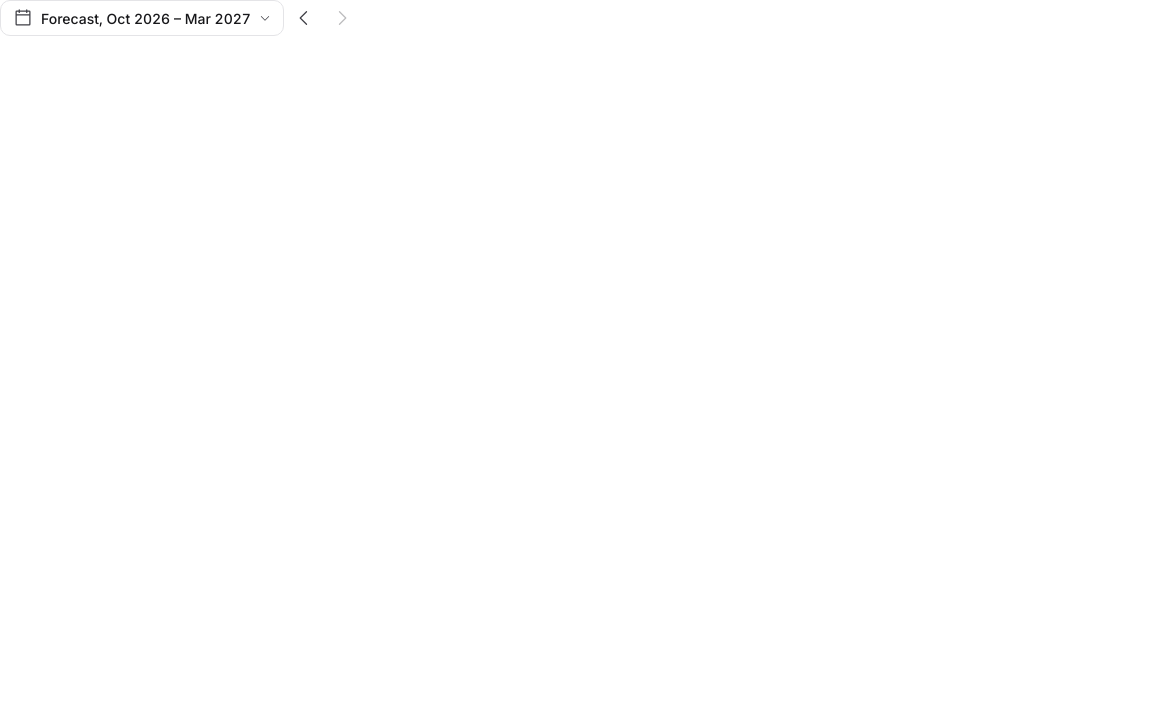
it: PeriodPicker › explains the forecast in the hint while the focus is on its button
Later steps or results of the test are not shown.
Click the button "Forecast, Oct 2026 – Mar 2027".
click(142, 18)  # box [0,0,284,36]
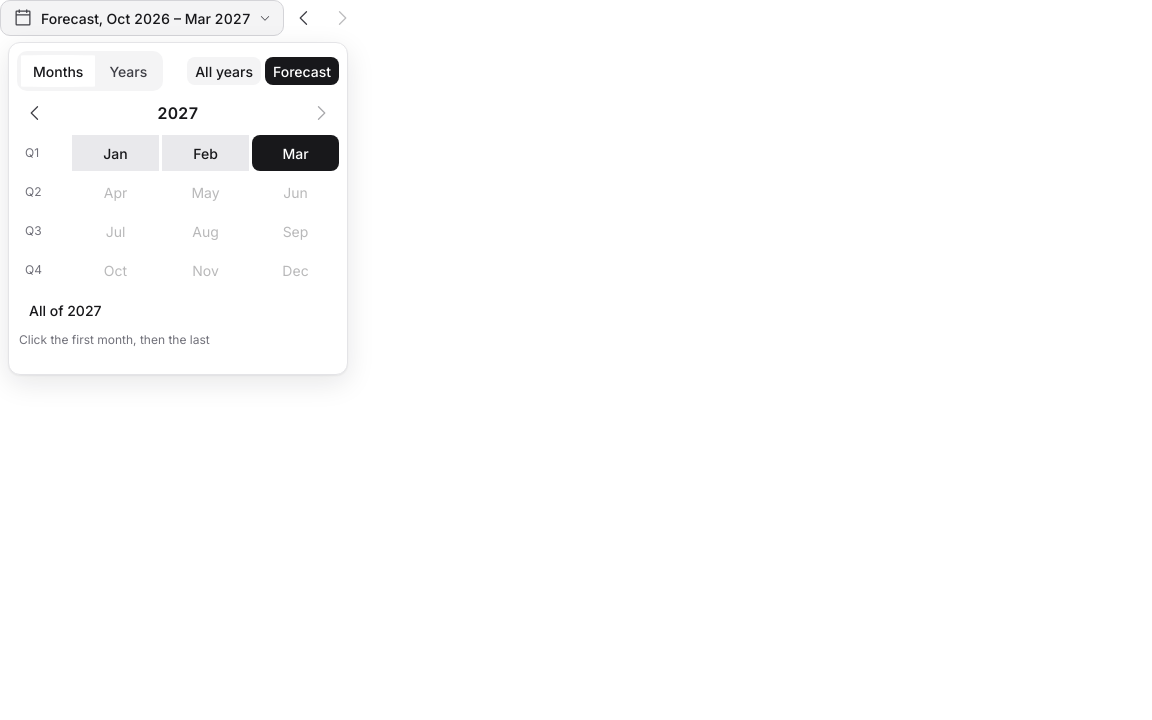
Expected: the message reads "Click the first month, then the last", [19,332,210,347]
